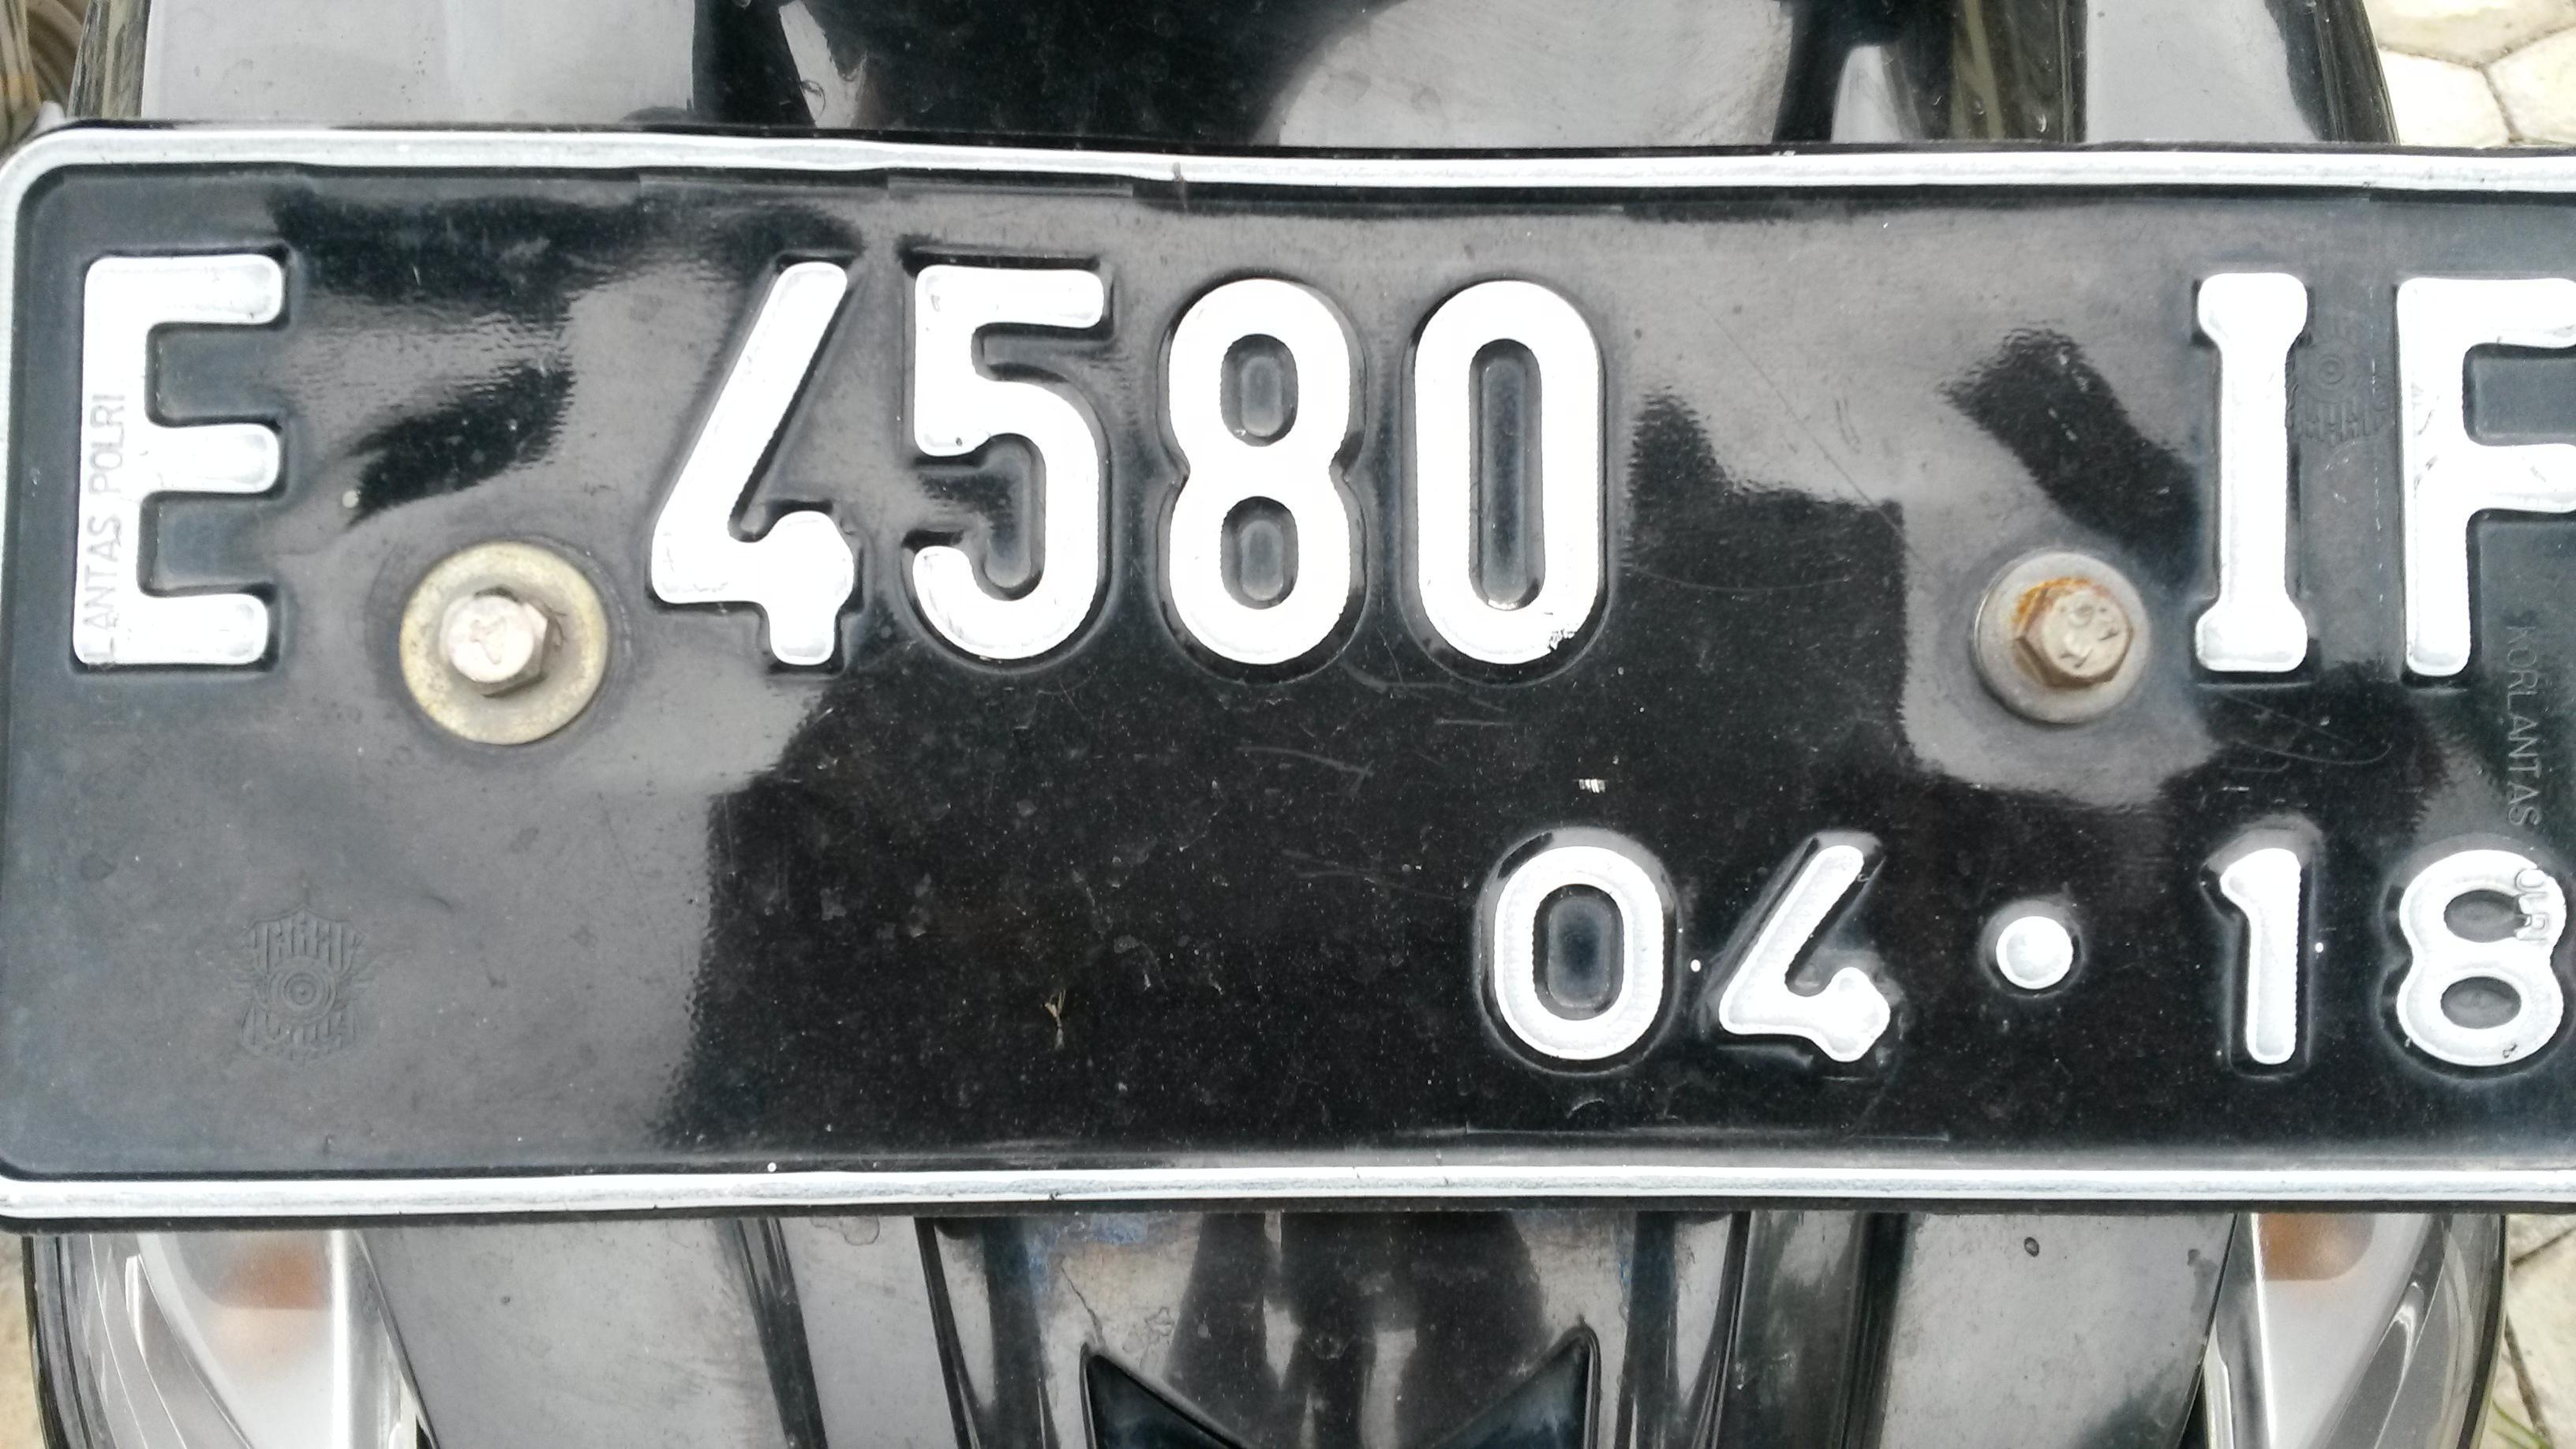0: (1367, 257, 1632, 694)
4: (616, 211, 885, 702)
5: (874, 243, 1138, 682)
8: (1122, 256, 1370, 691)
E: (50, 221, 317, 724)
F: (2370, 266, 2576, 705)
I: (2178, 249, 2327, 702)
